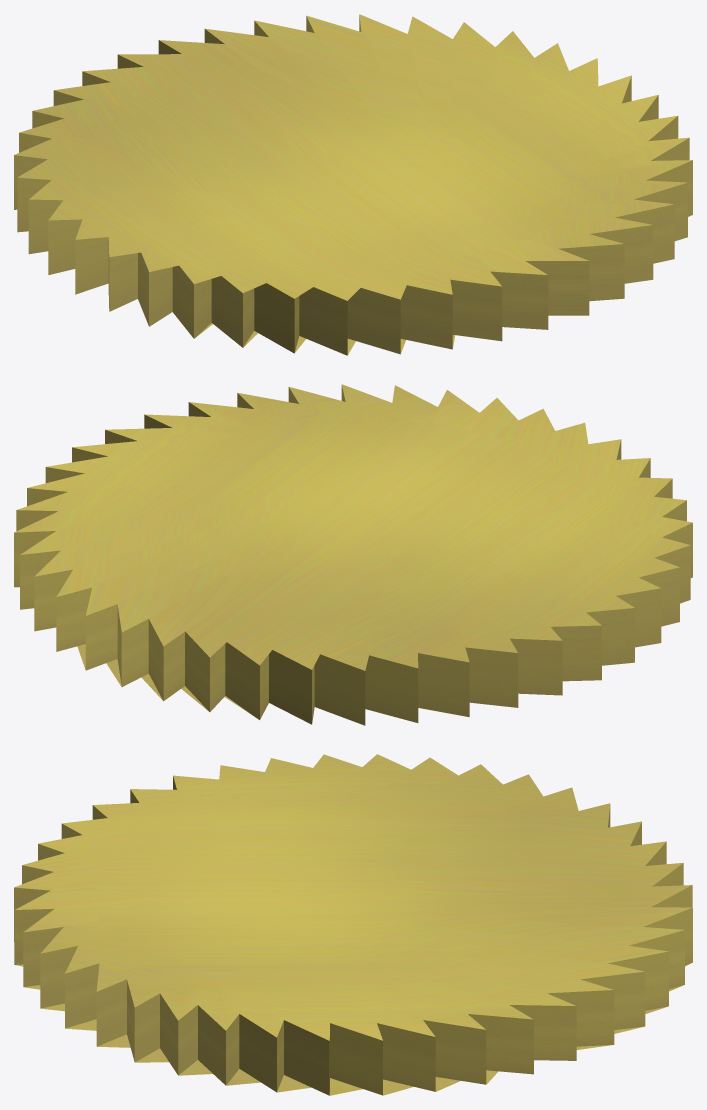
Rendered from ClockAngle4Spoke040.fbx.
3 renders of one model, top to bottom at view 1: azimuth 30°, elevation 25°; view 2: azimuth 150°, elevation 25°; view 3: azimuth 270°, elevation 25°, orthographic.
Visible parts, largest first — view 1: ClockAngle4Spoke040; view 2: ClockAngle4Spoke040; view 3: ClockAngle4Spoke040.
Part boxes in pixels (box(x1,y1,x2,y2)): ClockAngle4Spoke040: box(14, 14, 692, 355); ClockAngle4Spoke040: box(14, 384, 692, 725); ClockAngle4Spoke040: box(14, 754, 692, 1095).
Size of the model in its own units: 221 by 19.69 by 221.
